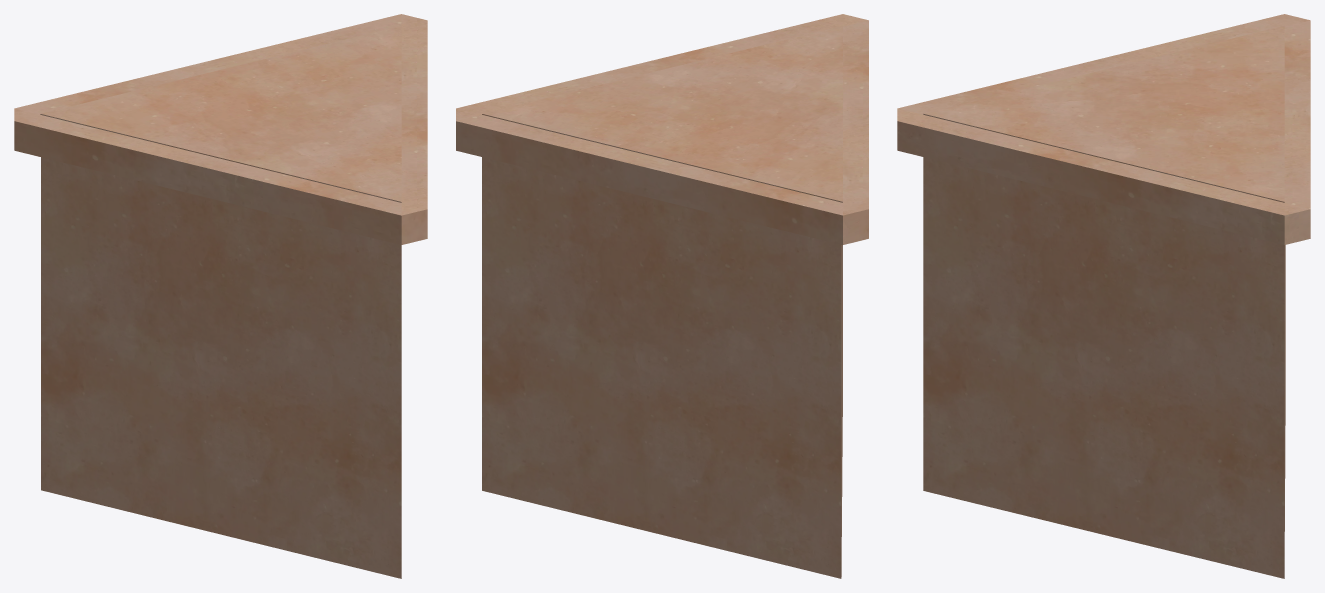
3 views of the same model, side by side, from view 1: azimuth 30°, elevation 25°; view 2: azimuth 150°, elevation 25°; view 3: azimuth 270°, elevation 25° (orthographic).
Visible parts, largest first — view 1: SM_BB_T4_Foundation_Triangle_Large_03_LOD0; view 2: SM_BB_T4_Foundation_Triangle_Large_03_LOD0; view 3: SM_BB_T4_Foundation_Triangle_Large_03_LOD0.
Part boxes in pixels (left/top/right/bottom): SM_BB_T4_Foundation_Triangle_Large_03_LOD0: left=14, top=14, right=427, bottom=578; SM_BB_T4_Foundation_Triangle_Large_03_LOD0: left=456, top=14, right=868, bottom=578; SM_BB_T4_Foundation_Triangle_Large_03_LOD0: left=897, top=14, right=1310, bottom=578.
Size of the model in its own units: 3.43 by 2.99 by 2.97.
1 material, 1 textured.
